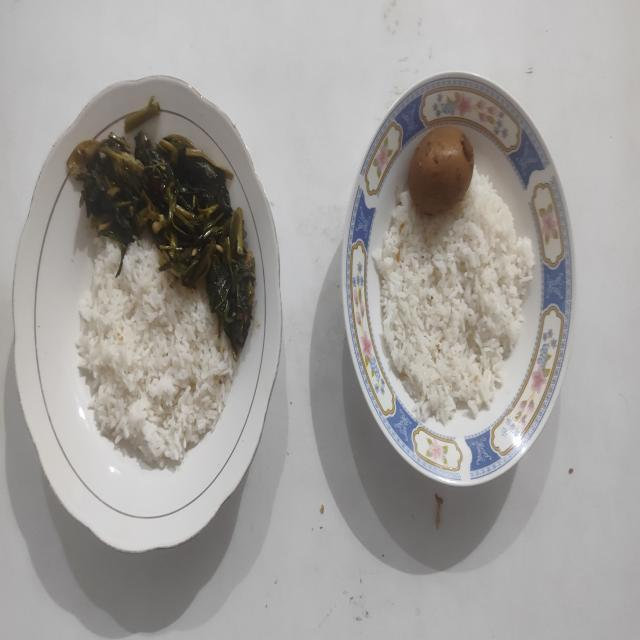nasi_putih: (373, 169, 535, 424), (76, 237, 236, 468)
tumis_kangkung: (67, 96, 256, 360)
